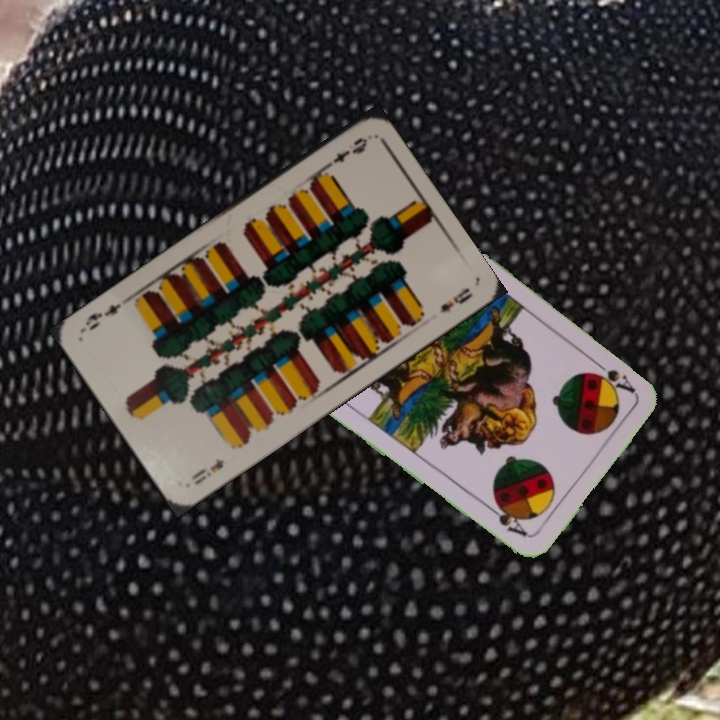E9: (319, 133, 371, 173), (187, 454, 227, 488)
SA: (587, 354, 638, 396)
